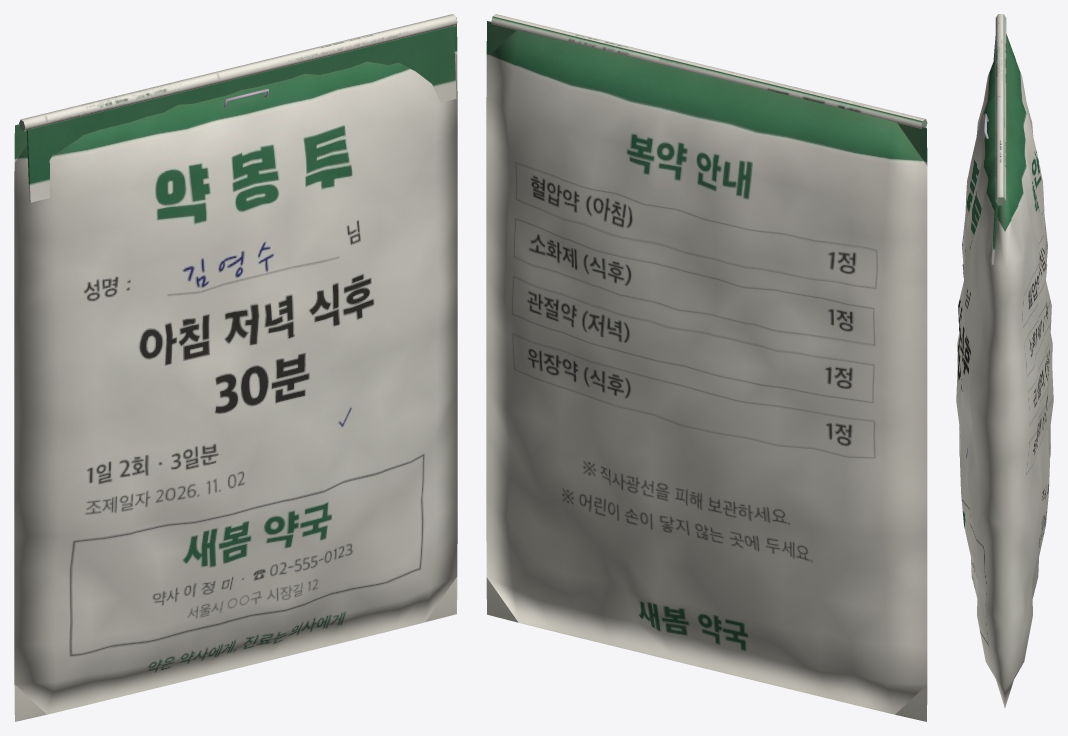
Rendered from HomeMedicineBag.fbx.
3 renders of one model, left to right at view 1: azimuth 30°, elevation 25°; view 2: azimuth 150°, elevation 25°; view 3: azimuth 270°, elevation 25°, orthographic. The views are drawn at different scales.
Parts seen in each view (by area): view 1: HomeMedicineBag; view 2: HomeMedicineBag; view 3: HomeMedicineBag.
Boxes of the visible parts, <box> form: HomeMedicineBag: <box>14,14,457,721</box>; HomeMedicineBag: <box>486,14,927,721</box>; HomeMedicineBag: <box>956,14,1053,707</box>.
Bounding box in the file's own units: 0.1312 × 0.1705 × 0.0288.
